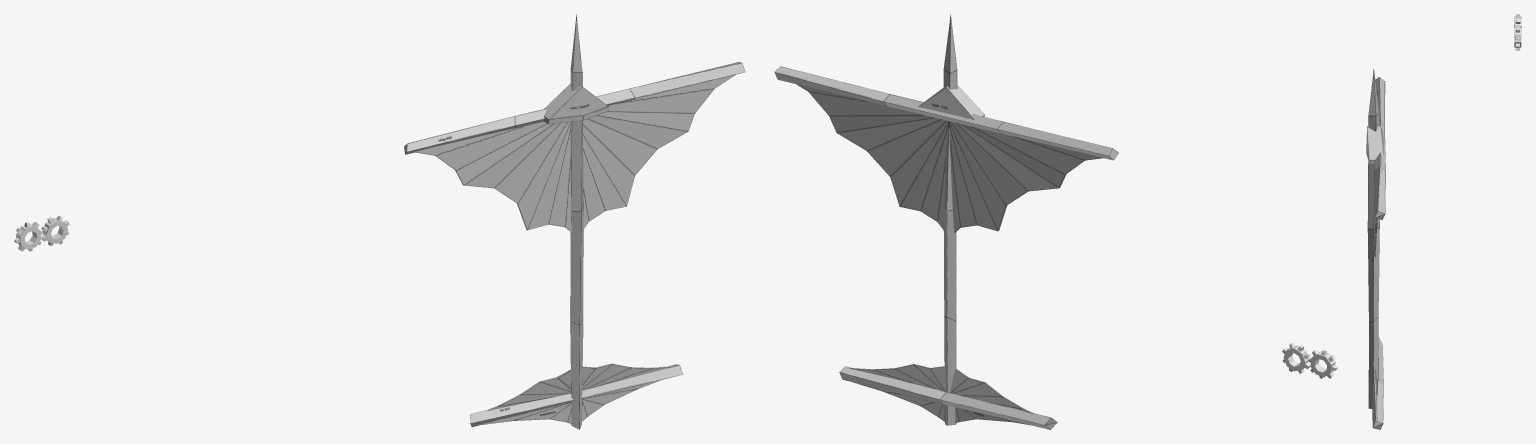
The model's file is glider.fbx.
3 views of the same model, side by side, from view 1: azimuth 30°, elevation 25°; view 2: azimuth 150°, elevation 25°; view 3: azimuth 270°, elevation 25° (orthographic). The views are drawn at different scales.
Visible parts, largest first — view 1: flap wings, glider skeleton, flap tail top, flap tail bot; view 2: flap wings, glider skeleton, flap tail top, flap tail bot, Cylinder, Cylinder.001; view 3: glider skeleton, Cylinder.
Boxes of the visible parts, bbox=[...] form: flap wings: bbox=[414, 74, 735, 232]; glider skeleton: bbox=[404, 14, 745, 429]; flap tail top: bbox=[487, 363, 674, 410]; flap tail bot: bbox=[477, 380, 659, 425]; flap wings: bbox=[797, 84, 1103, 232]; glider skeleton: bbox=[774, 14, 1118, 429]; flap tail top: bbox=[849, 364, 1033, 414]; flap tail bot: bbox=[853, 382, 1028, 424]; Cylinder: bbox=[1282, 343, 1310, 373]; Cylinder.001: bbox=[1308, 349, 1337, 378]; glider skeleton: bbox=[1366, 69, 1385, 429]; Cylinder: bbox=[1514, 24, 1521, 50].
Size of the model in its own units: 387 by 238 by 98.45.
